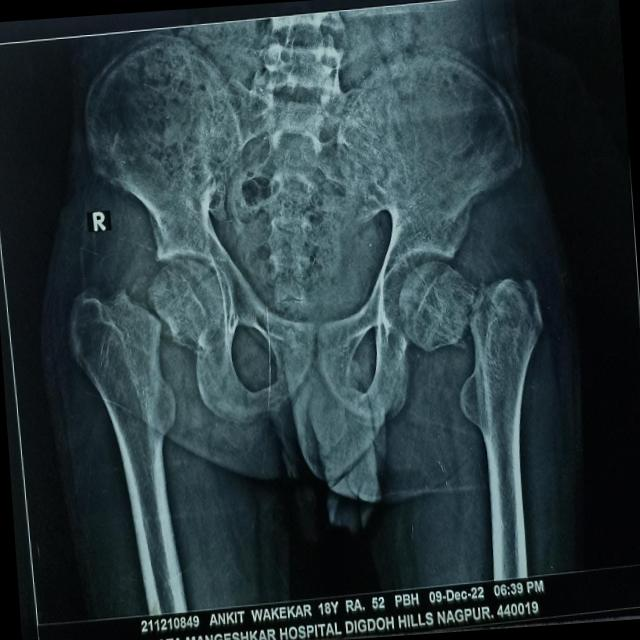left-neck: (460, 277, 544, 501), (398, 261, 479, 351)
right-neck: (68, 284, 176, 523), (148, 259, 223, 346)
